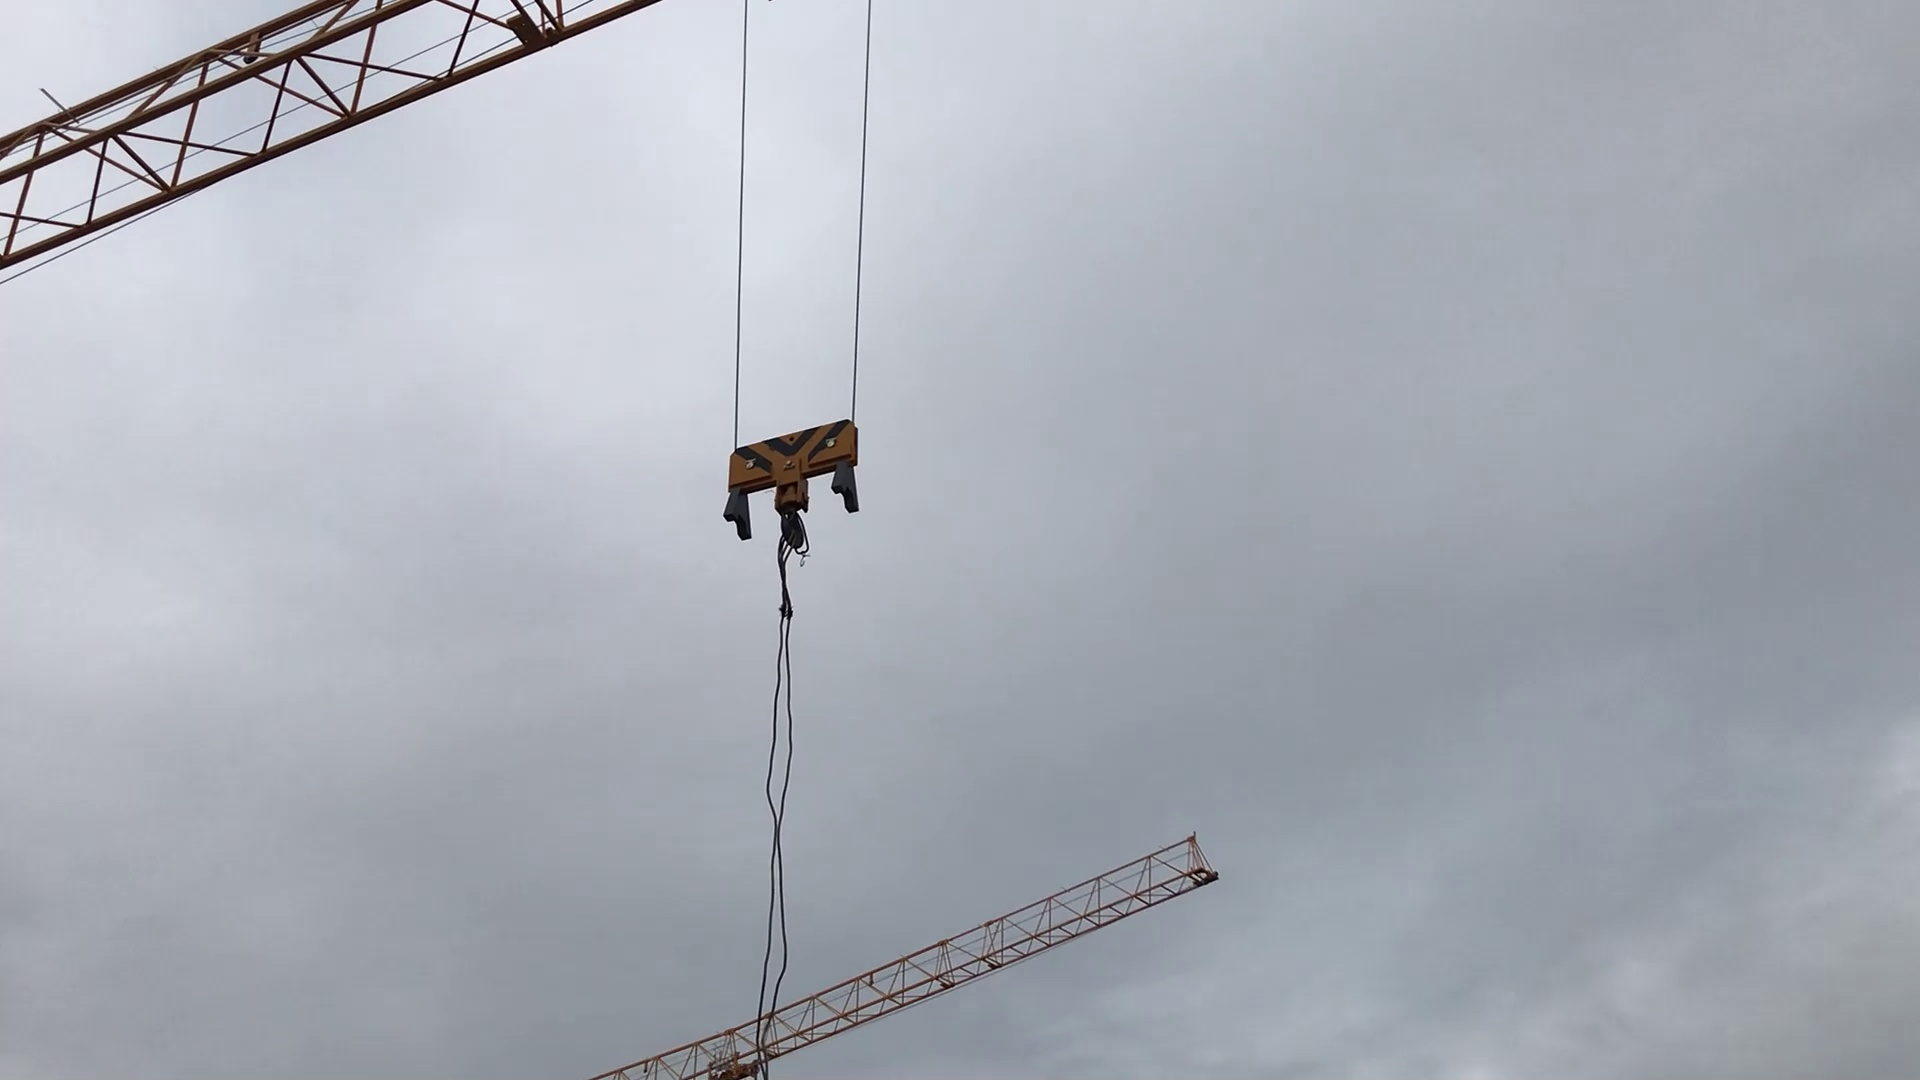hook: (719, 411, 878, 576)
